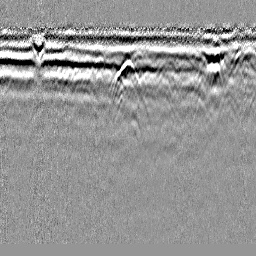cavity: (111, 58, 143, 89)
